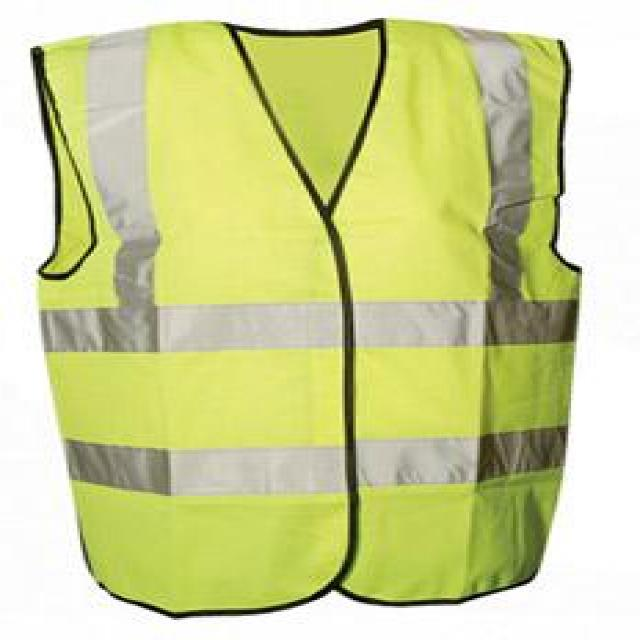Reflective-Jacket: (11, 8, 632, 638)
